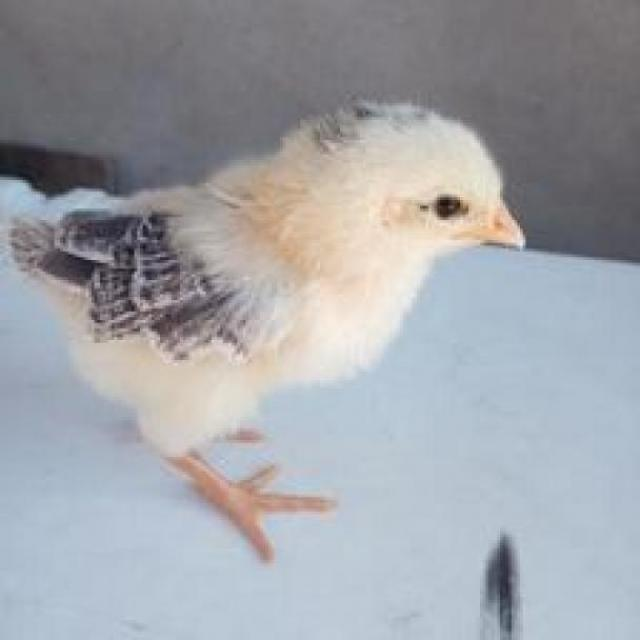Chicken: (8, 103, 532, 584)
